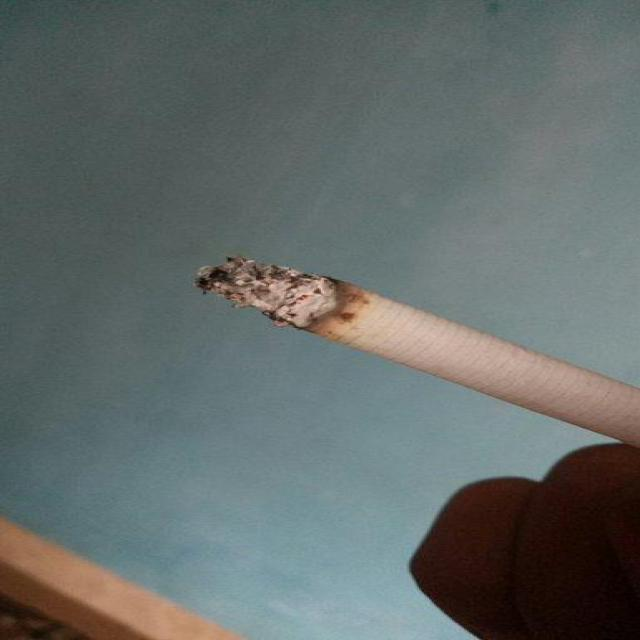rokok: (205, 246, 640, 434)
